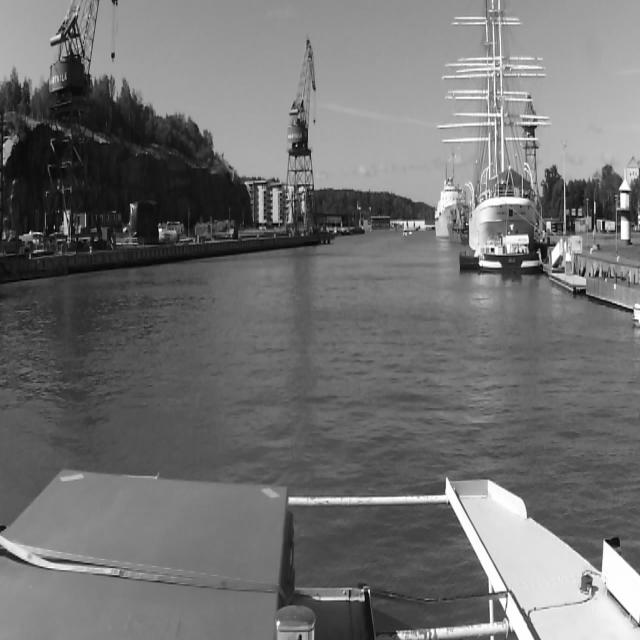ship: (430, 0, 547, 260), (475, 234, 543, 274), (432, 178, 466, 241)
